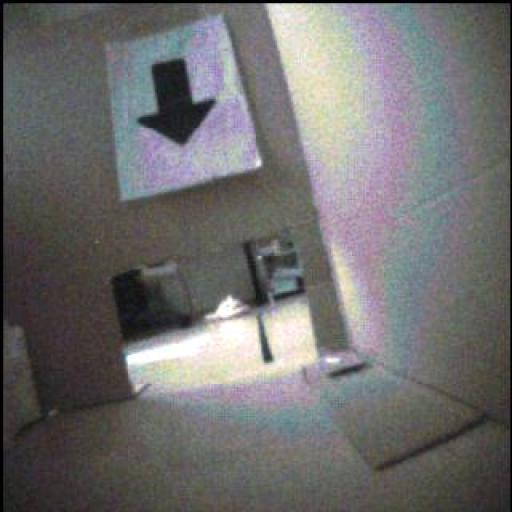arrow: (139, 60, 216, 145)
